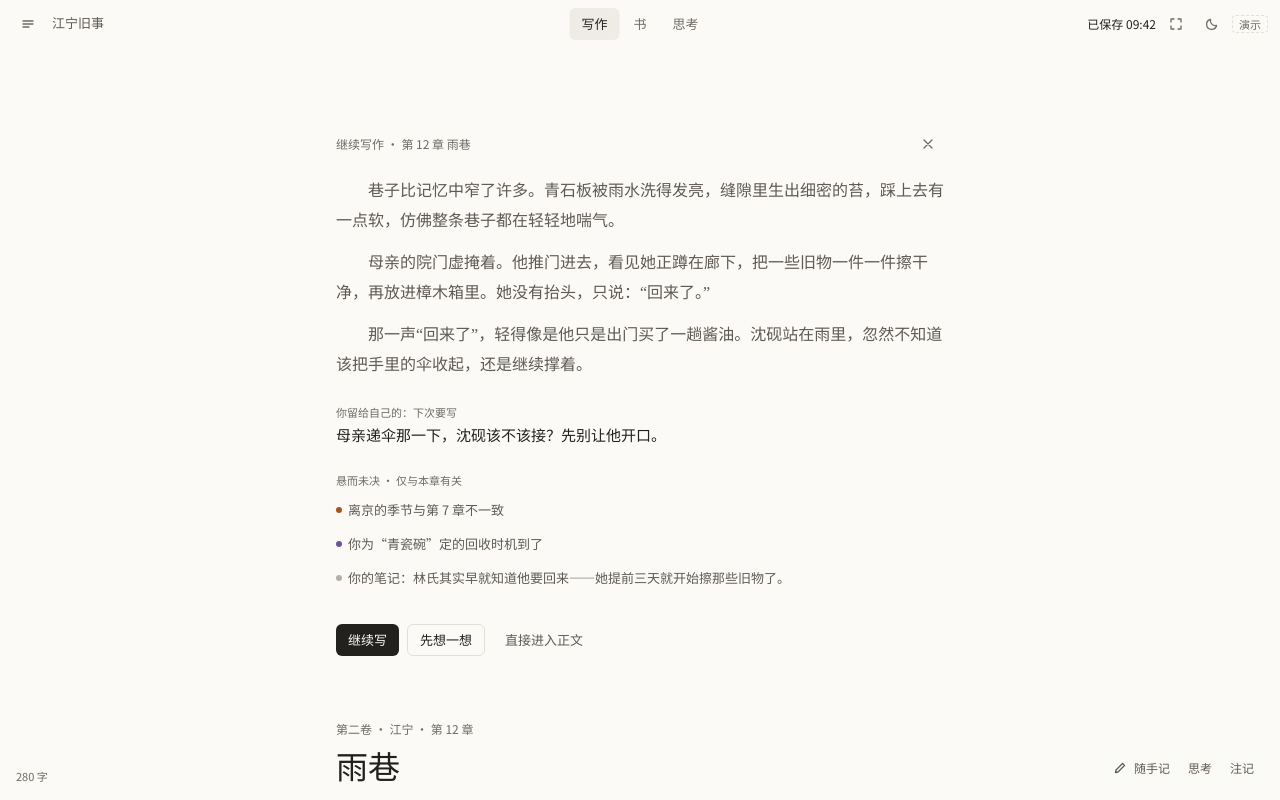
Test: Writer Agent studio › renders the VNext manuscript and reveals chapters only on request
This screenshot has width=1280, height=800.
Expected: the tab "写作" is shown, x1=570 y1=8 x2=620 y2=40
Click the button named "目录与本章相关".
click(28, 24)  # box x1=12 y1=8 x2=44 y2=40
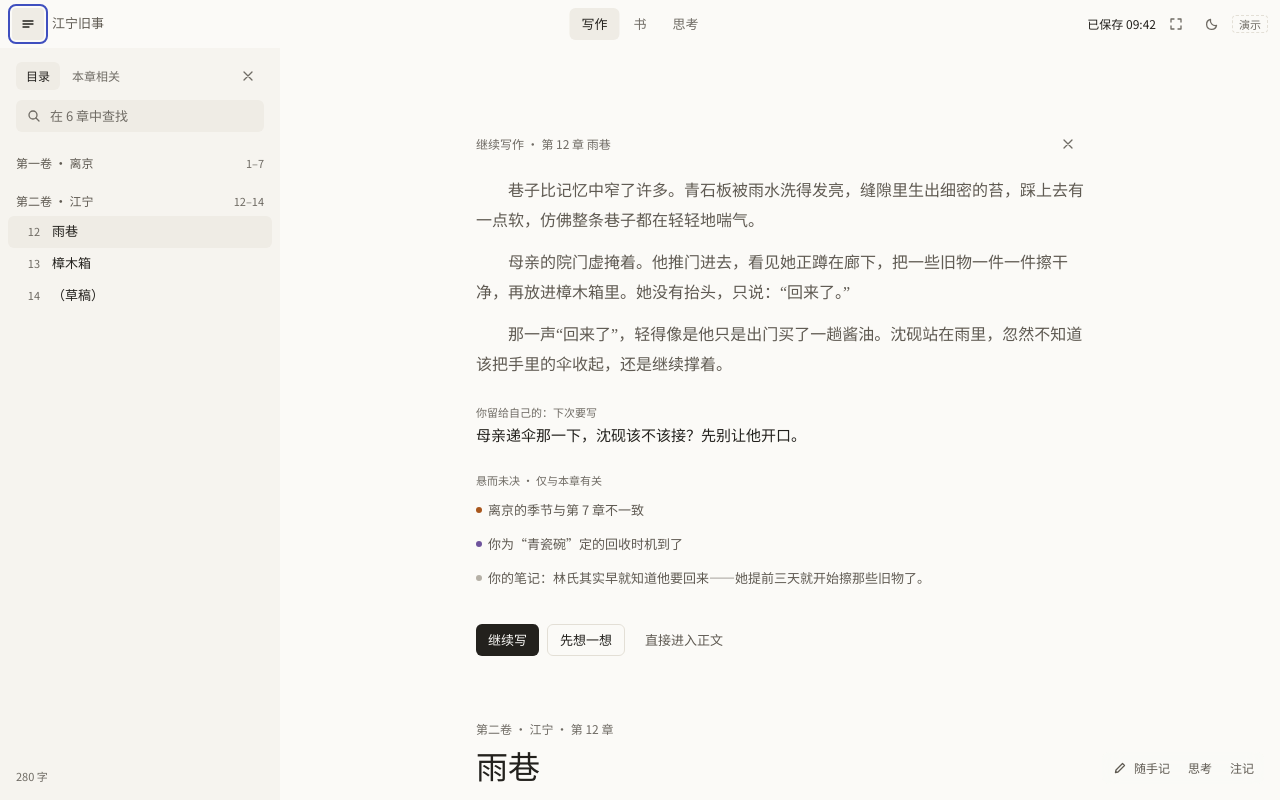
Result: the navigation bar named "书的地图" is shown at x1=0 y1=48 x2=280 y2=799
